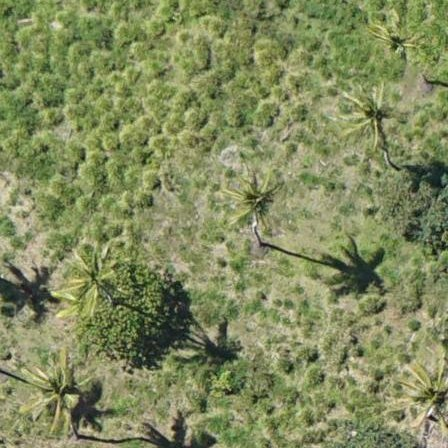palm_tree: (217, 160, 289, 236), (52, 244, 123, 320), (25, 351, 95, 427), (335, 80, 404, 147), (397, 359, 448, 430), (373, 15, 422, 61)
